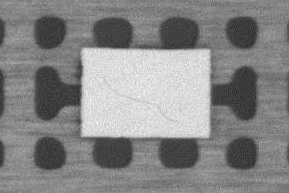DIE_CRACK: (103, 79, 180, 122)
